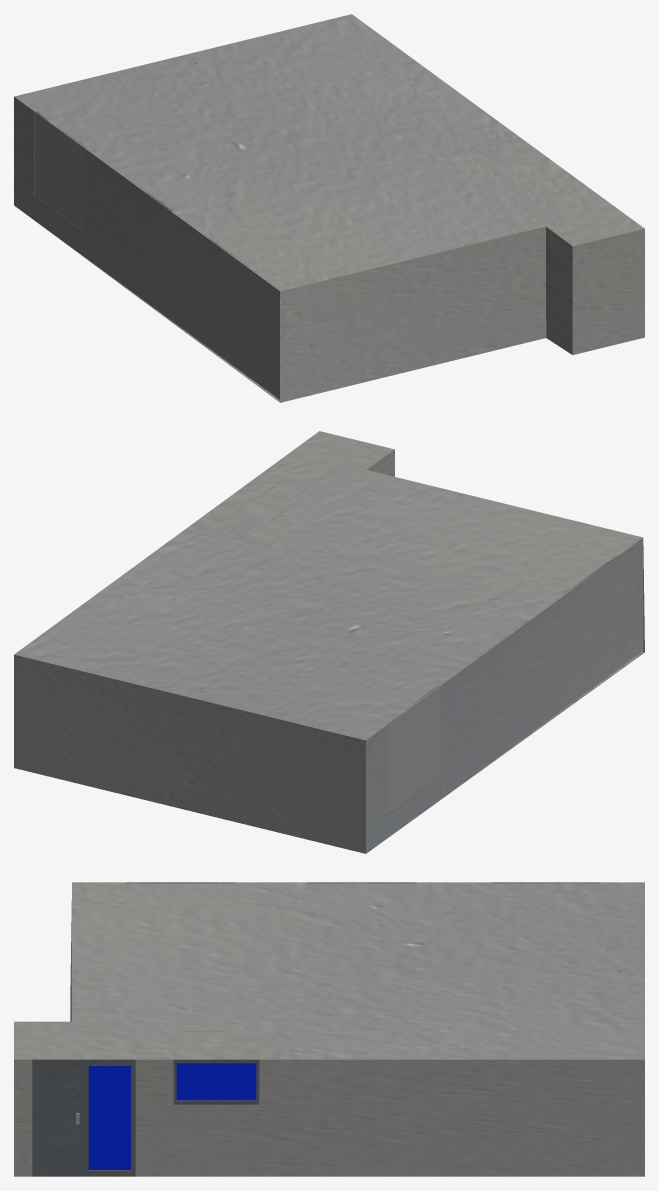
Rendered from Aul4 (1).fbx.
3 renders of one model, top to bottom at view 1: azimuth 30°, elevation 25°; view 2: azimuth 150°, elevation 25°; view 3: azimuth 270°, elevation 25°, orthographic. The views are drawn at different scales.
Visible parts, largest first — view 1: Cube; view 2: Cube; view 3: Cube.
Boxes of the visible parts, left/top/right/bottom form: Cube: left=14, top=14, right=644, bottom=402; Cube: left=14, top=431, right=644, bottom=853; Cube: left=14, top=882, right=644, bottom=1176.
Size of the model in its own units: 805 by 250 by 1200.
